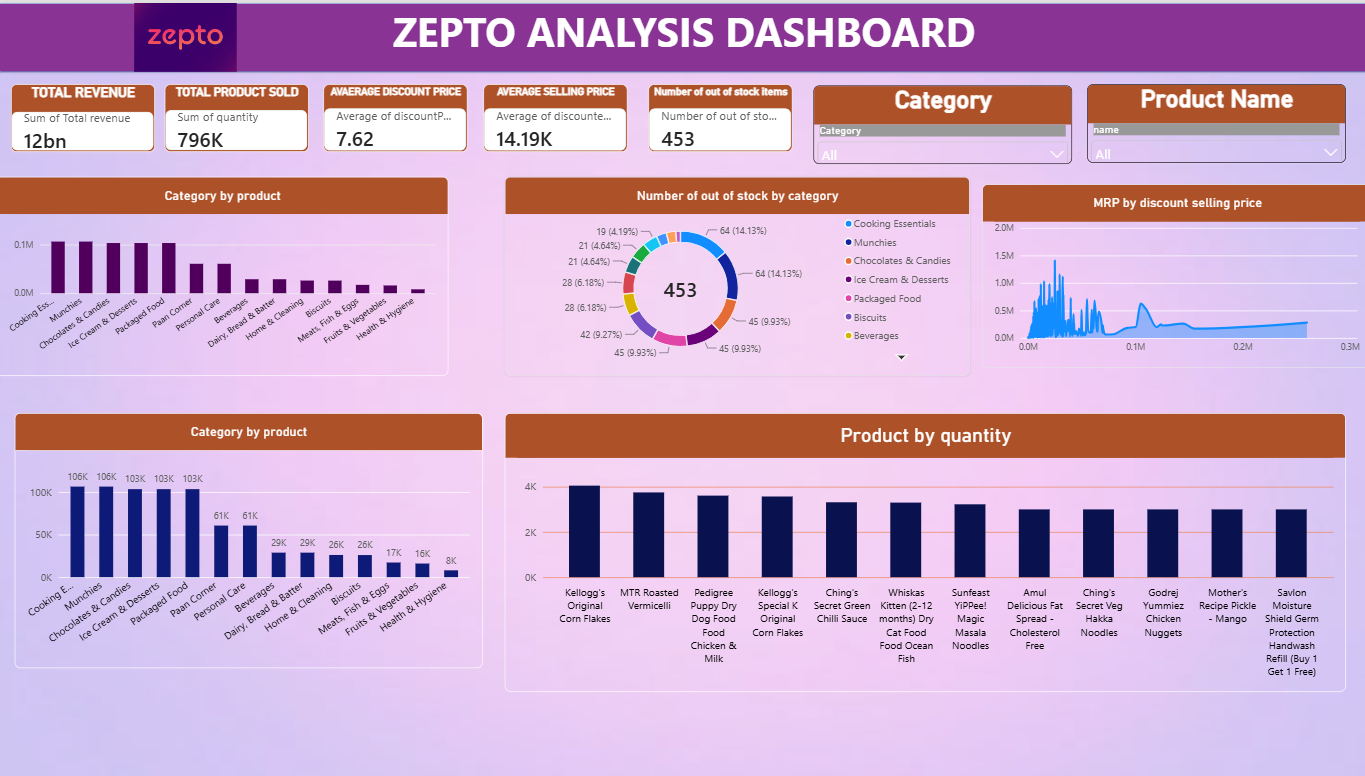

The dashboard page shown, as its layout file describes it:
{"tool":"powerbi","page":{"name":"Page 1","canvas":[1920,1080],"ordinal":0},"visuals":[{"type":"shape","box":[0,0,1920.4,96.7],"z":0},{"type":"cardVisual","title":"TOTAL REVENUE","fields":{"Data":["Sum(zepto_v2.Total revenue)"]},"box":[20.9,113.4,200.6,94.2],"z":1000},{"type":"textbox","box":[0,0,1920.4,96.7],"z":2000},{"type":"cardVisual","title":"TOTAL PRODUCT SOLD","fields":{"Data":["Sum(zepto_v2.quantity)"]},"box":[235.5,113.4,200.6,94.2],"z":3000},{"type":"cardVisual","title":"AVAERAGE DISCOUNT PRICE","fields":{"Data":["Avg(zepto_v2.discountPercent)"]},"box":[457,113.4,200.6,94.2],"z":4000},{"type":"cardVisual","title":"AVERAGE SELLING PRICE","fields":{"Data":["Avg(zepto_v2.discountedSellingPrice)"]},"box":[680.2,113.4,200.6,94.2],"z":5000},{"type":"cardVisual","title":"Number of out of stock items","fields":{"Data":["zepto_v2.Number of out of stock items"]},"box":[910.5,113.4,200.6,94.2],"z":6000},{"type":"slicer","title":"Category","fields":{"Values":["zepto_v2.Category"]},"box":[1140.7,115.1,361,109.9],"z":7000},{"type":"slicer","title":"Product Name","fields":{"Values":["zepto_v2.name"]},"box":[1522.7,113.4,361,109.9],"z":8000},{"type":"clusteredColumnChart","title":"Category by product","fields":{"Category":["zepto_v2.Category"],"Y":["Sum(zepto_v2.quantity)"]},"box":[0,242.4,631.4,277.3],"z":9000},{"type":"donutChart","title":"Number of out of stock by category","fields":{"Category":["zepto_v2.Category"],"Y":["zepto_v2.Number of out of stock items"]},"box":[709.9,242.4,648.8,277.3],"z":10000},{"type":"areaChart","title":"MRP by discount selling price","fields":{"Category":["zepto_v2.mrp"],"Y":["Sum(zepto_v2.discountedSellingPrice)"]},"box":[1376.2,252.9,544.2,256.4],"z":11000},{"type":"clusteredColumnChart","title":"Category by product","fields":{"Category":["zepto_v2.Category"],"Y":["Sum(zepto_v2.quantity)"]},"box":[26.8,572.2,652.5,356.1],"z":12000},{"type":"clusteredColumnChart","title":"Product by quantity","fields":{"Category":["zepto_v2.name"],"Y":["Sum(zepto_v2.quantity)"]},"box":[709.9,572.1,1173.8,389],"z":13000},{"type":"image","box":[144.8,0,239,95.9],"z":14001}]}

Visuals, with their boxes in screenshot pixels (x1, y1, x2, y2), scaled from the page's 1920x1080 canvas onto the 1365x776 screenshot:
shape: crop(0, 0, 1364, 69)
"TOTAL REVENUE" cardVisual: crop(15, 81, 157, 149)
textbox: crop(0, 0, 1364, 69)
"TOTAL PRODUCT SOLD" cardVisual: crop(167, 81, 310, 149)
"AVAERAGE DISCOUNT PRICE" cardVisual: crop(325, 81, 468, 149)
"AVERAGE SELLING PRICE" cardVisual: crop(484, 81, 626, 149)
"Number of out of stock items" cardVisual: crop(647, 81, 790, 149)
"Category" slicer: crop(811, 83, 1068, 162)
"Product Name" slicer: crop(1083, 81, 1339, 160)
"Category by product" clusteredColumnChart: crop(0, 174, 449, 373)
"Number of out of stock by category" donutChart: crop(505, 174, 966, 373)
"MRP by discount selling price" areaChart: crop(978, 182, 1364, 366)
"Category by product" clusteredColumnChart: crop(19, 411, 483, 667)
"Product by quantity" clusteredColumnChart: crop(505, 411, 1339, 691)
image: crop(103, 0, 273, 69)
